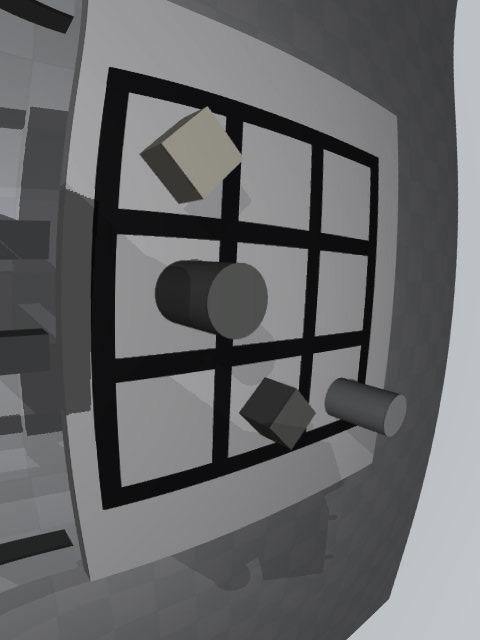can: (324, 378, 406, 436)
cube: (239, 377, 316, 450)
cylinder: (155, 260, 268, 339)
foam: (140, 107, 244, 204)
